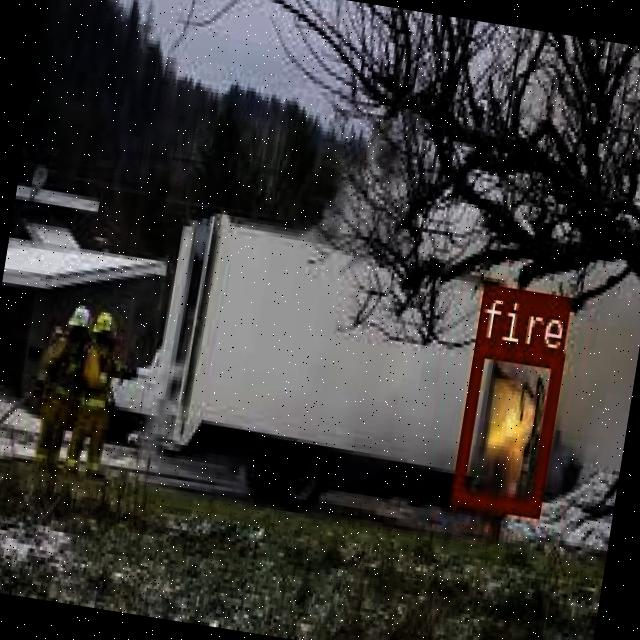fire: (450, 336, 564, 514)
